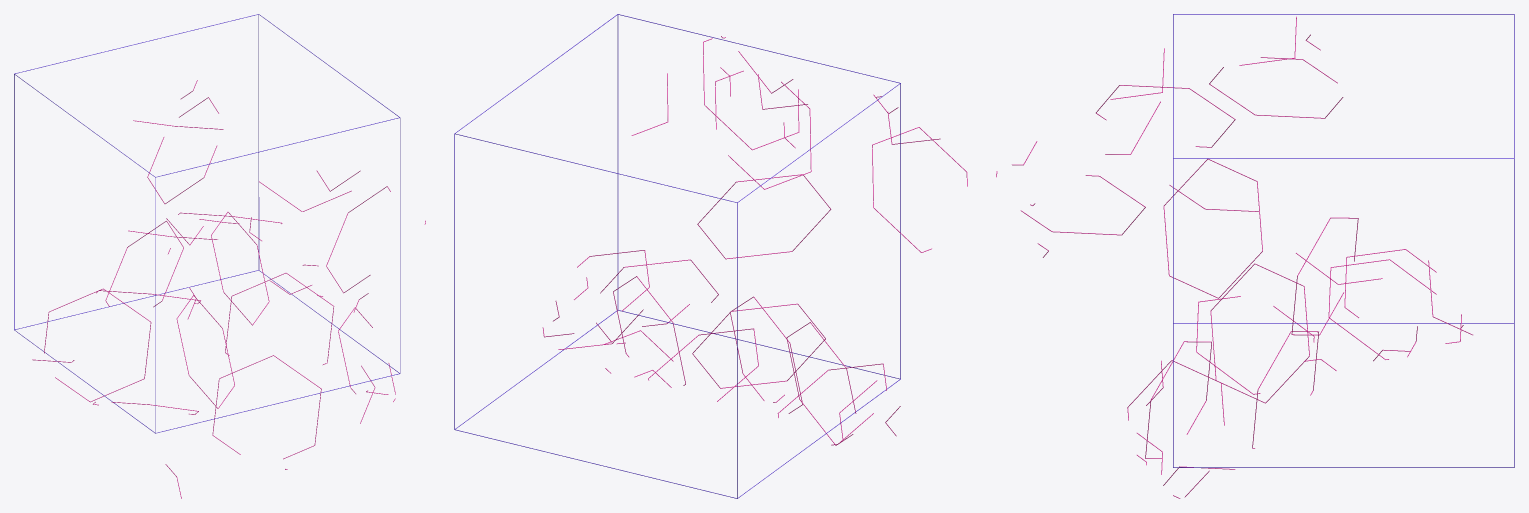
File: DDD000glb.glb
The picture shows the model from 3 angles, left to right: view 1: azimuth 30°, elevation 25°; view 2: azimuth 150°, elevation 25°; view 3: azimuth 270°, elevation 25°; orthographic projection. The views are drawn at different scales.
Visible parts, largest first — view 1: Shape_IndexedLineSet.003, Shape_IndexedLineSet.002; view 2: Shape_IndexedLineSet.003, Shape_IndexedLineSet.002; view 3: Shape_IndexedLineSet.003, Shape_IndexedLineSet.002.
Part boxes in pixels (x1,y1,x2,y2): Shape_IndexedLineSet.003: (32,80,425,498); Shape_IndexedLineSet.002: (14,14,400,433); Shape_IndexedLineSet.003: (542,36,967,445); Shape_IndexedLineSet.002: (454,14,900,498); Shape_IndexedLineSet.003: (996,16,1472,498); Shape_IndexedLineSet.002: (1173,14,1514,467).
Bounding box in the file's own units: 11.68 × 13.62 × 15.2.
